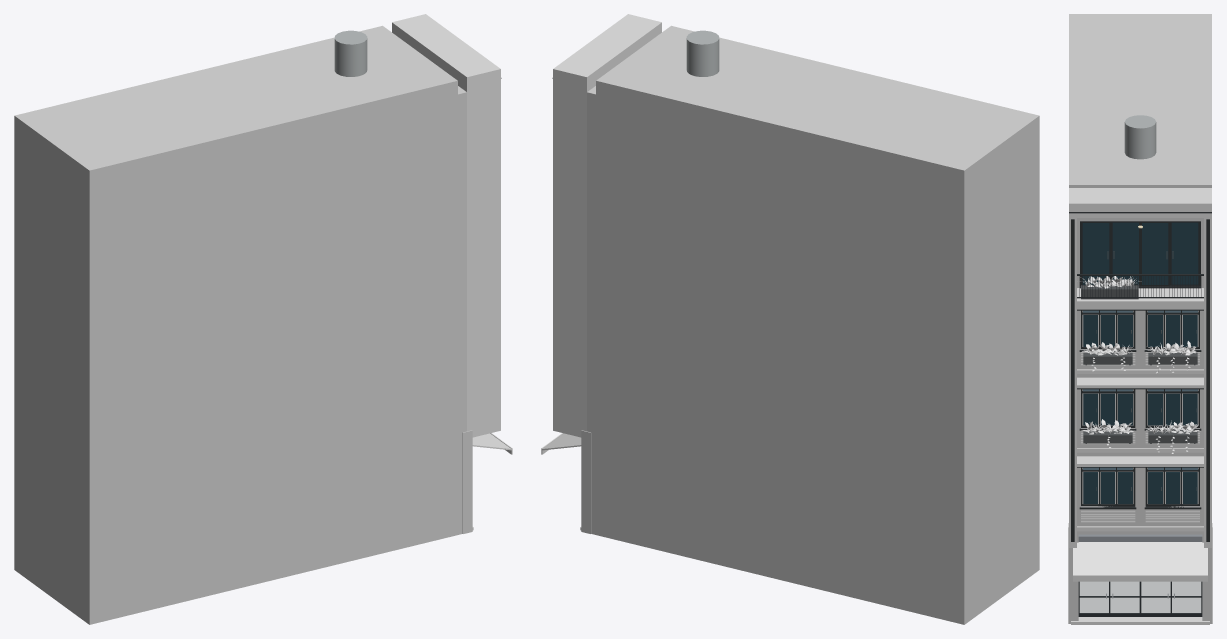
The model's file is OW_Mau_NhaPho_5_5_2.fbx.
3 views of the same model, side by side, from view 1: azimuth 30°, elevation 25°; view 2: azimuth 150°, elevation 25°; view 3: azimuth 270°, elevation 25° (orthographic). The views are drawn at different scales.
Parts seen in each view (by area): view 1: OW_NhaPho_9020; view 2: OW_NhaPho_9020; view 3: OW_NhaPho_9020, OW_MatTienKinh.
Part boxes in pixels (x1,y1,x2,y2): OW_NhaPho_9020: [14, 14, 512, 624]; OW_NhaPho_9020: [541, 14, 1039, 624]; OW_NhaPho_9020: [1068, 14, 1212, 624]; OW_MatTienKinh: [1078, 534, 1202, 616].
Bounding box in the file's own units: 17.77 × 19.45 × 5.5.
